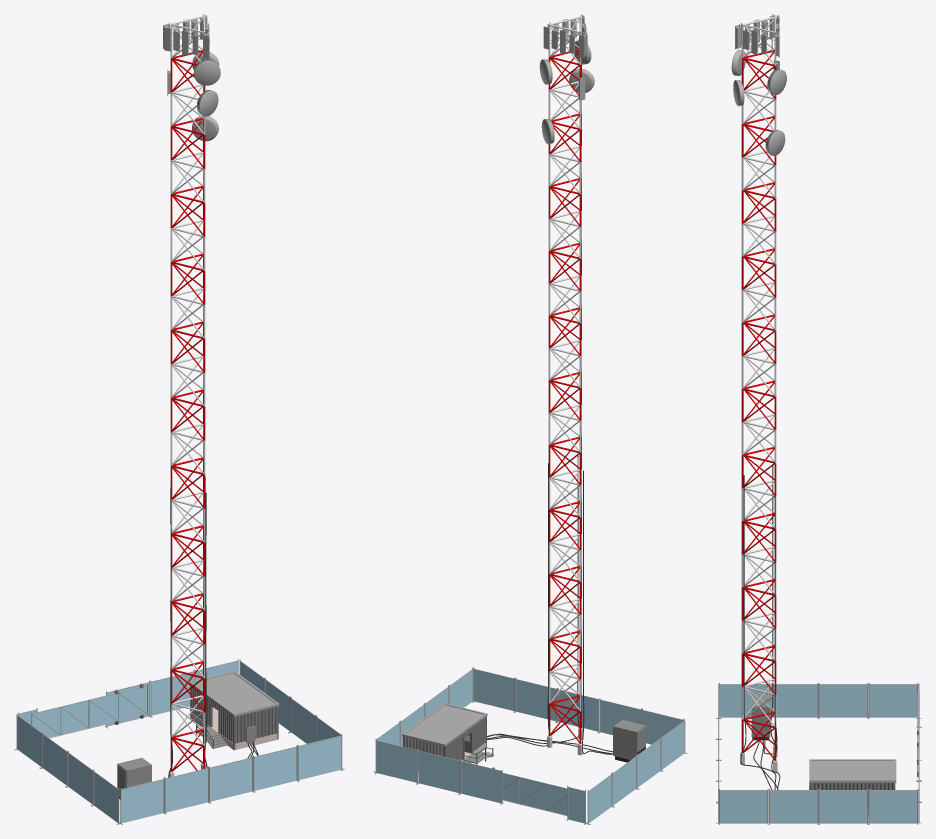
The model's file is RadioTower.fbx.
The picture shows the model from 3 angles, left to right: view 1: azimuth 30°, elevation 25°; view 2: azimuth 150°, elevation 25°; view 3: azimuth 270°, elevation 25°; orthographic projection. The views are drawn at different scales.
Parts seen in each view (by area): view 1: BezierCurve.005; view 2: BezierCurve.005; view 3: BezierCurve.005.
Part boxes in pixels (x1,y1,x2,y2): BezierCurve.005: (14, 14, 344, 824); BezierCurve.005: (373, 14, 687, 824); BezierCurve.005: (716, 14, 921, 824).
Size of the model in its own units: 2107 by 6721 by 1692.
